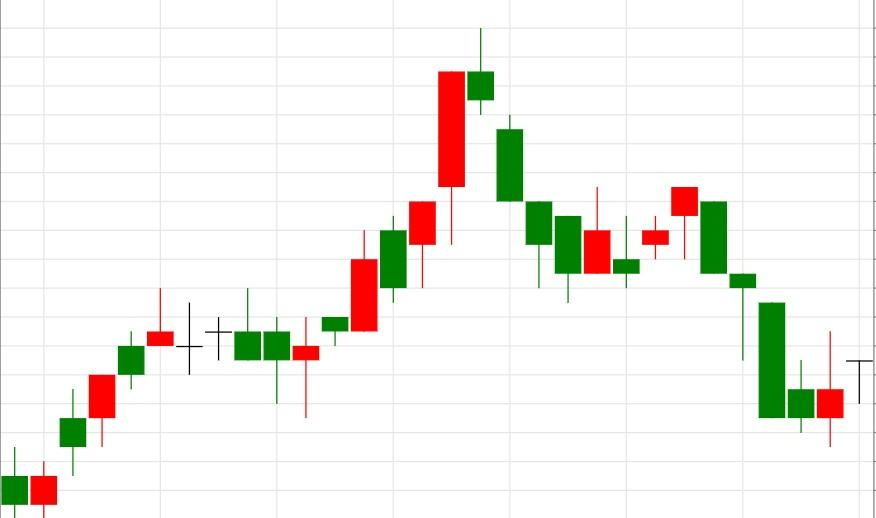three_black_crows_fall: (292, 27, 554, 417)
